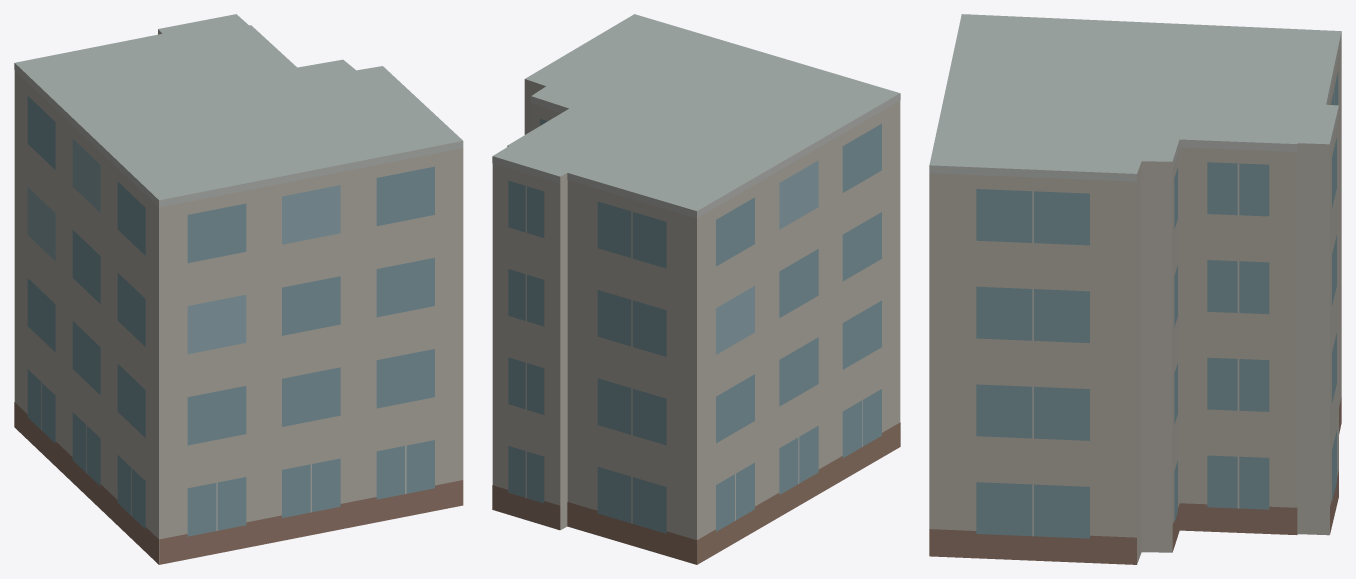
The model's file is survey-upis-32582835.glb.
3 views of the same model, side by side, from view 1: azimuth 30°, elevation 25°; view 2: azimuth 150°, elevation 25°; view 3: azimuth 270°, elevation 25° (orthographic). The views are drawn at different scales.
Visible parts, largest first — view 1: survey-upis-32582835.tmp; view 2: survey-upis-32582835.tmp; view 3: survey-upis-32582835.tmp.
Boxes of the visible parts, x1,y1,x2,y2 form: survey-upis-32582835.tmp: [14, 14, 463, 564]; survey-upis-32582835.tmp: [492, 14, 900, 564]; survey-upis-32582835.tmp: [929, 14, 1341, 564].
Bounding box in the file's own units: 10.71 × 12.2 × 11.67.
